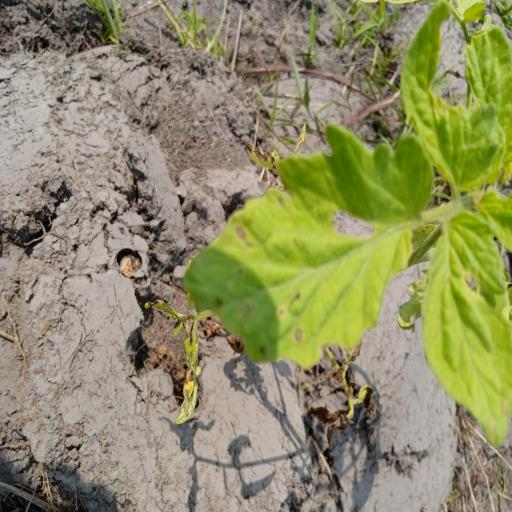Tomato_Brown_Spots: (180, 119, 440, 376)
